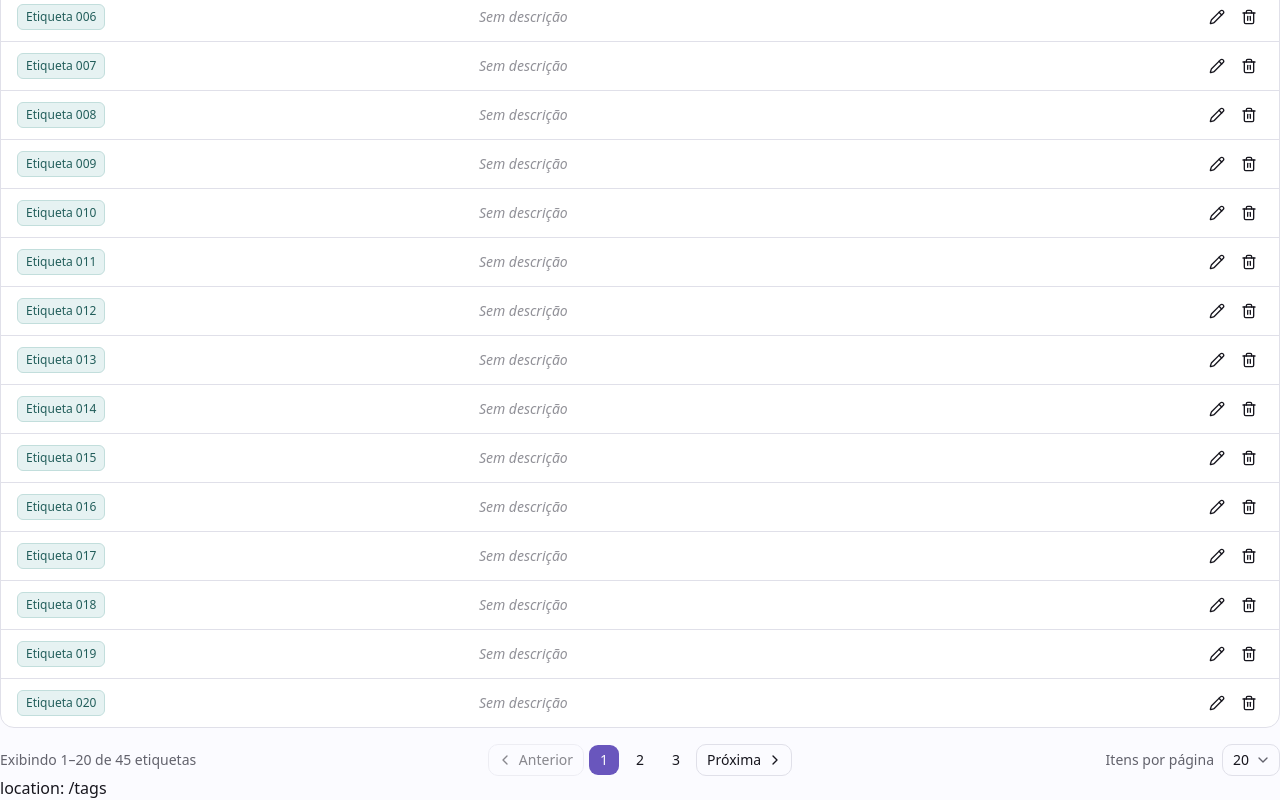
Test case: TagListPage › paging › starts over on the first page when a search is submitted, keeping the size
This screenshot has width=1280, height=800.
(page scrolled)
Click the dropdown named "Itens por página": (1251, 760) [1222, 744, 1279, 776]
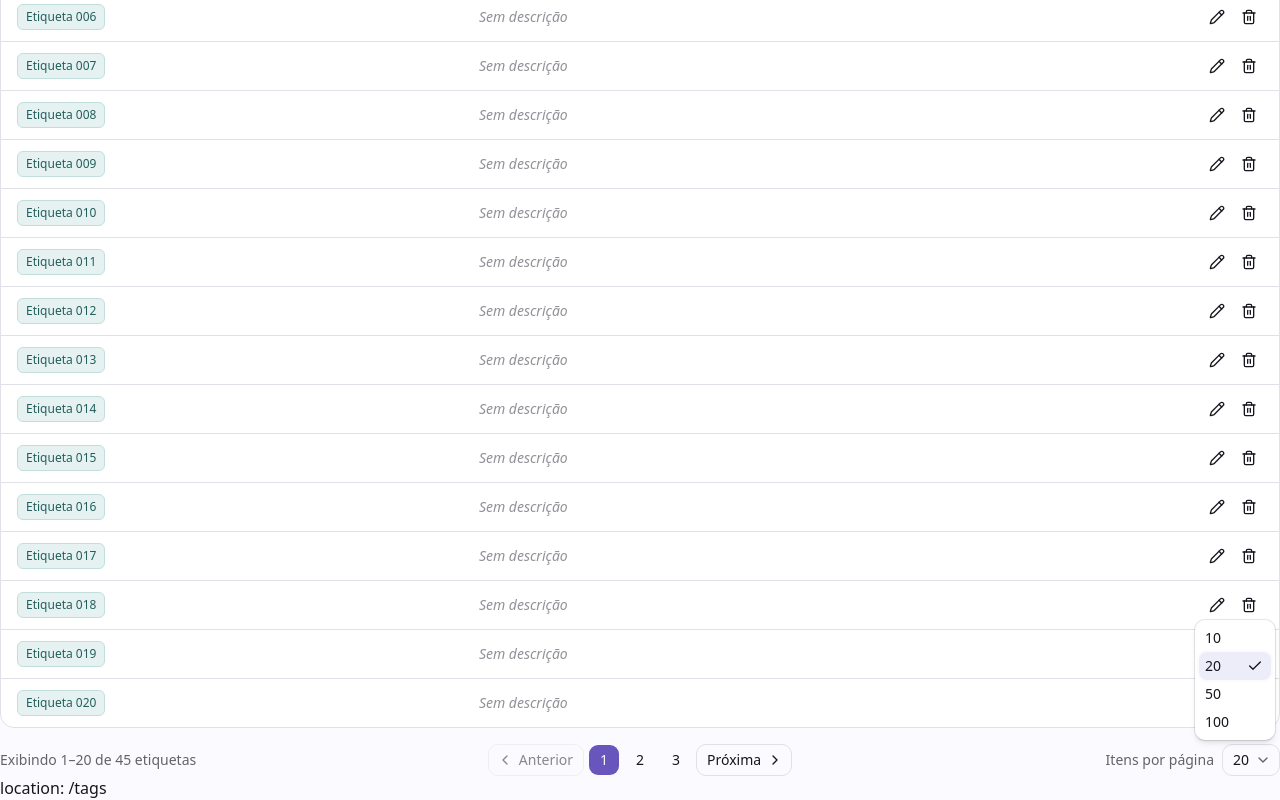
Click the option "10": (1213, 638) [1205, 628, 1221, 647]
(page scrolled)
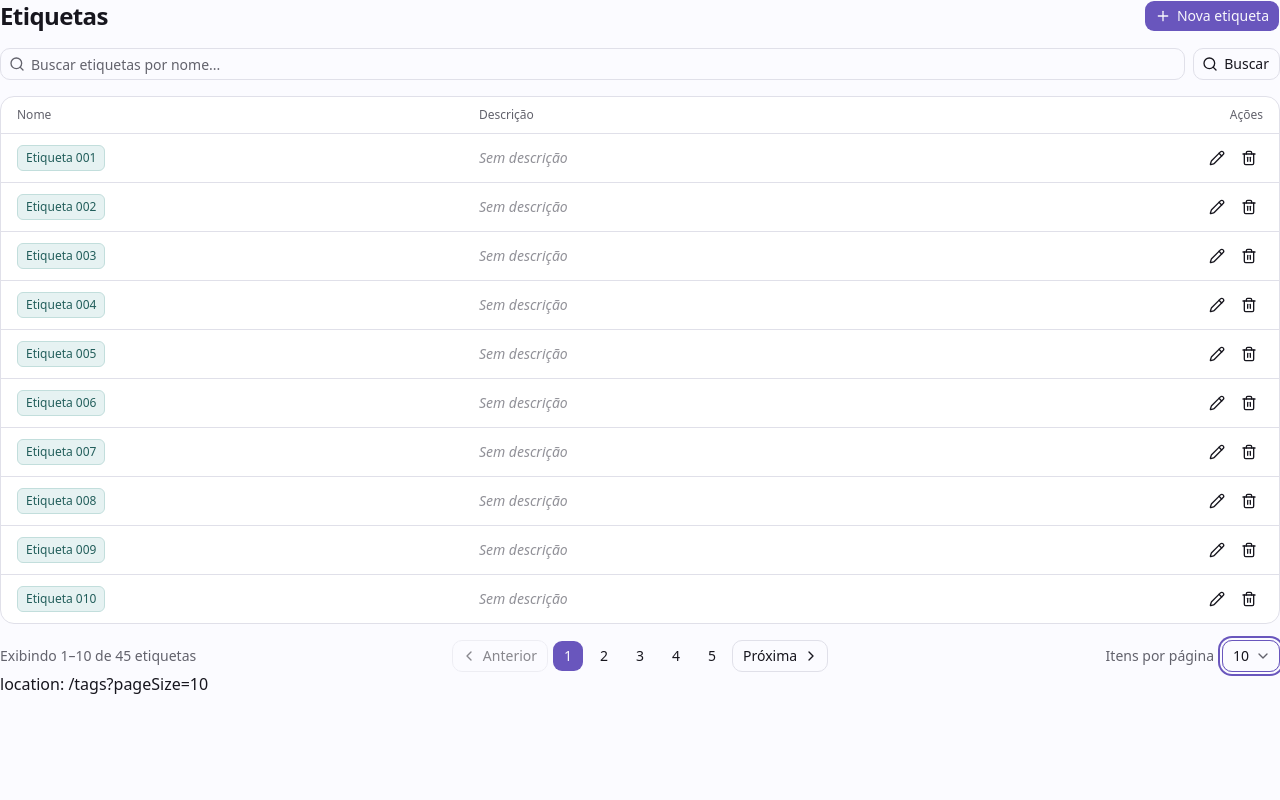
Click the button named "Ir para a página 3": (640, 656) [624, 640, 656, 672]
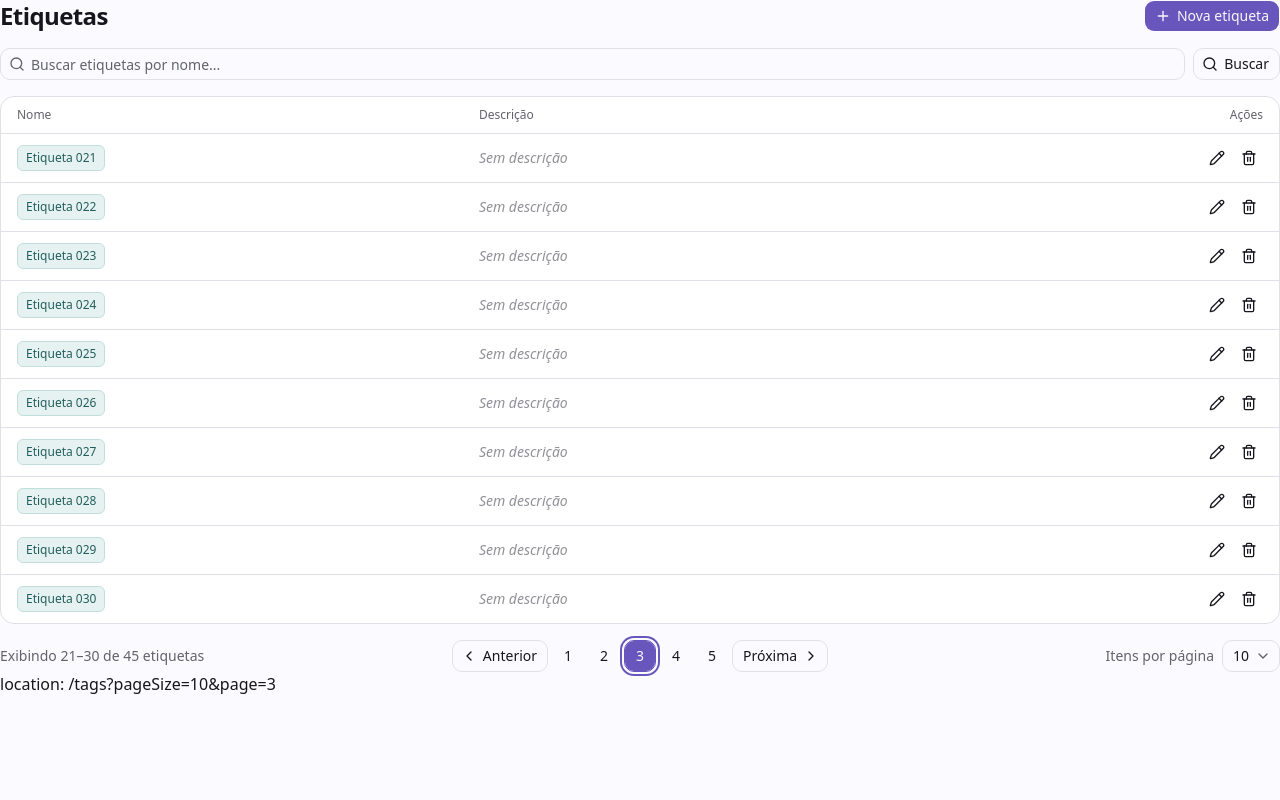
Expected: the text "Etiqueta 021" is shown, [17, 145, 106, 171]
In the field labelled "Buscar etiquetas por nome": (605, 64) [25, 48, 1184, 80], type "etiqueta 0"
Then press Enter
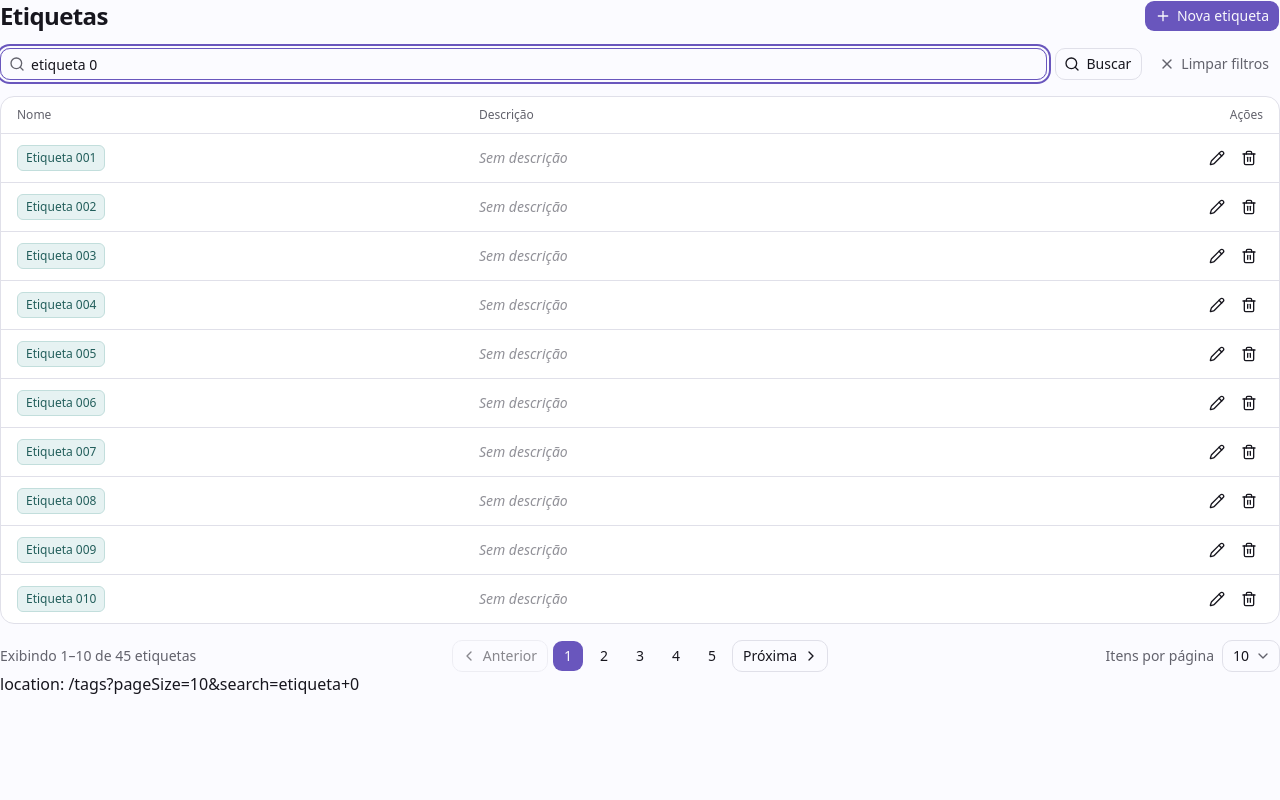
Expected: the text "Etiqueta 001" is shown, [17, 145, 106, 171]
